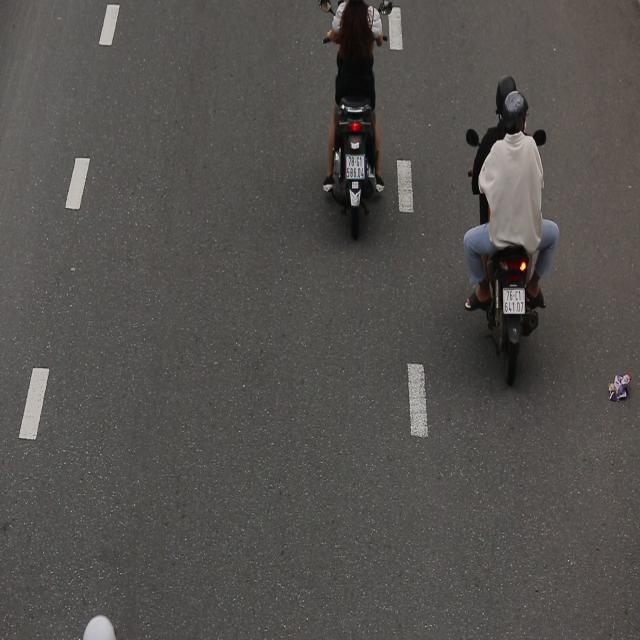motorbike: (461, 67, 558, 387)
